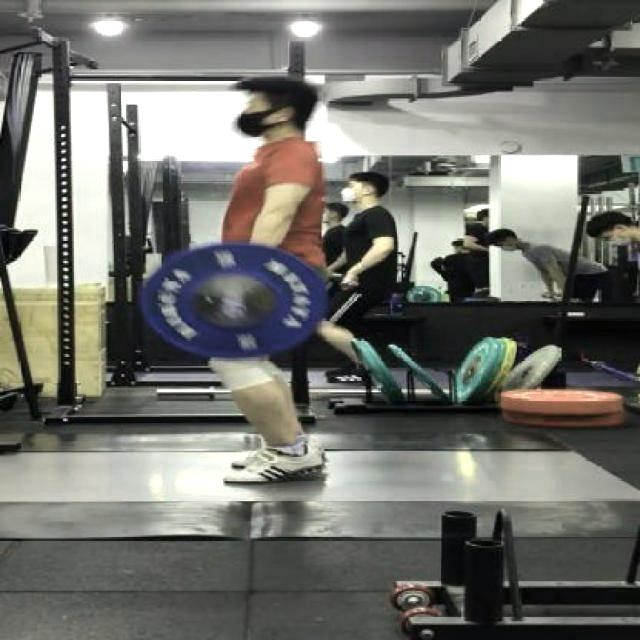barbell: (138, 237, 345, 367)
